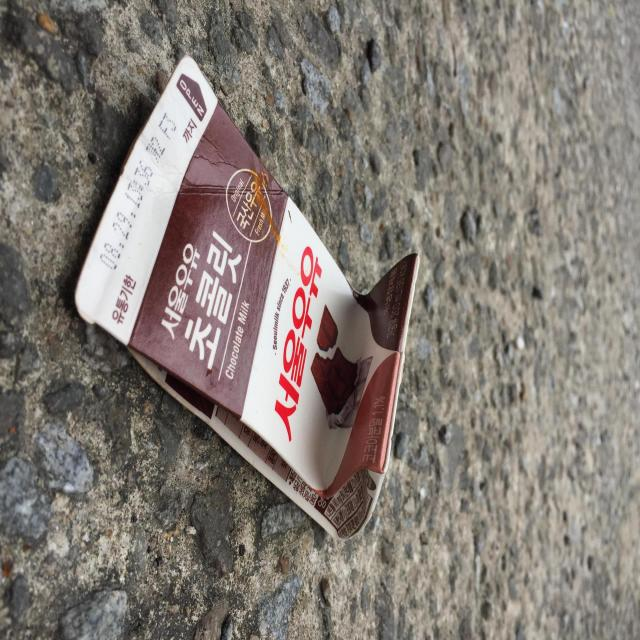paperpack: (74, 56, 419, 540)
